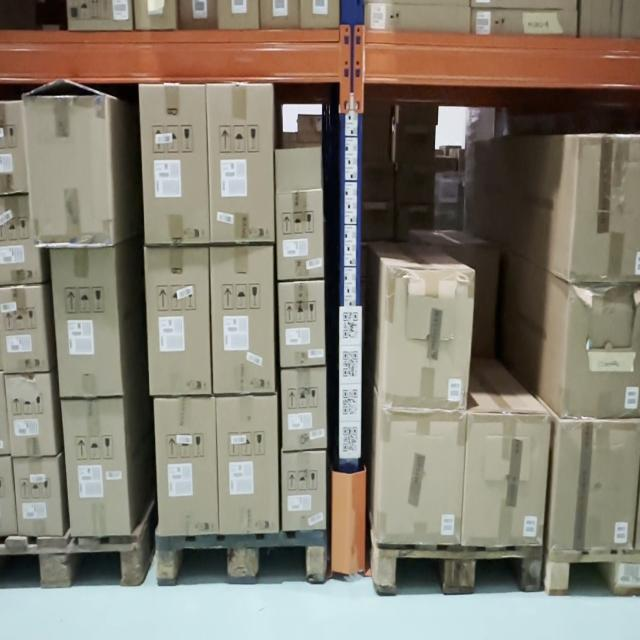box: (24, 95, 111, 248), (382, 266, 473, 409), (551, 421, 640, 551), (379, 412, 460, 544), (561, 283, 640, 418), (50, 248, 121, 397), (569, 136, 640, 281), (208, 86, 274, 241), (469, 412, 542, 543), (62, 400, 131, 537), (146, 85, 205, 240), (149, 250, 210, 394), (214, 246, 273, 392), (158, 401, 216, 532), (221, 397, 277, 532), (0, 286, 49, 373), (4, 374, 55, 454), (13, 459, 62, 536), (279, 282, 325, 362), (278, 195, 322, 276), (284, 367, 326, 450), (282, 453, 326, 528)
